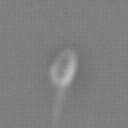normal: (44, 87, 68, 127)
